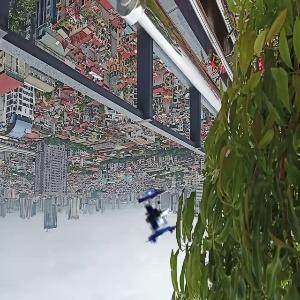drone: (94, 174, 195, 275)
